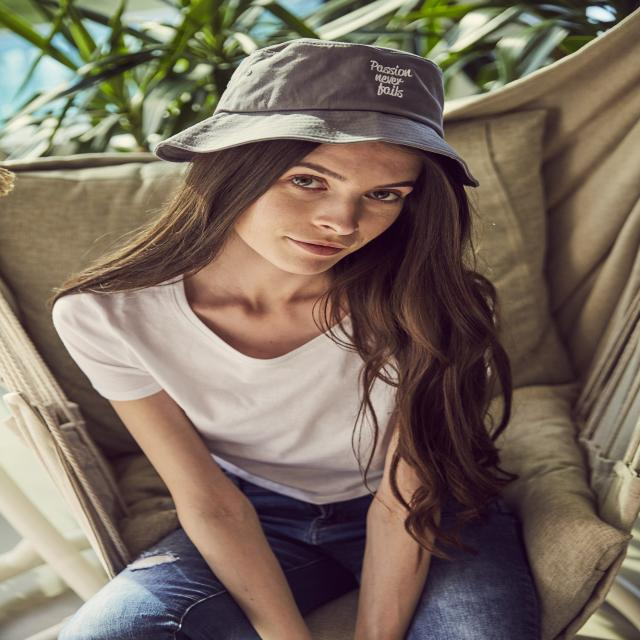hat: (142, 36, 486, 186)
